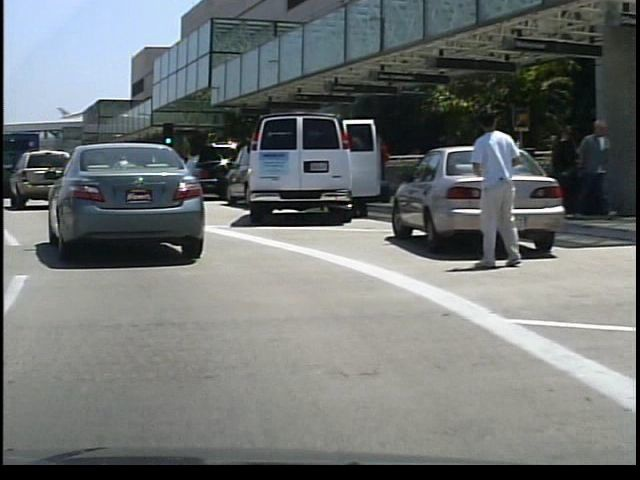person: (464, 104, 521, 271), (572, 116, 607, 219), (545, 118, 571, 219), (368, 130, 391, 198)
